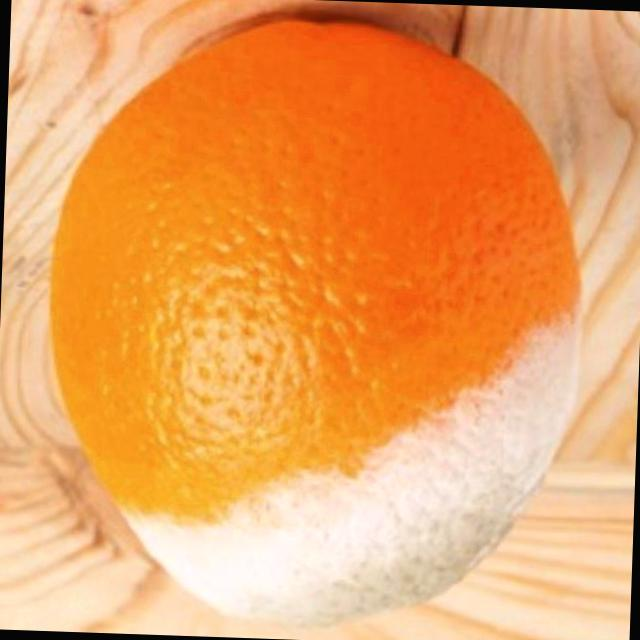rotten orange: (36, 7, 594, 636)
